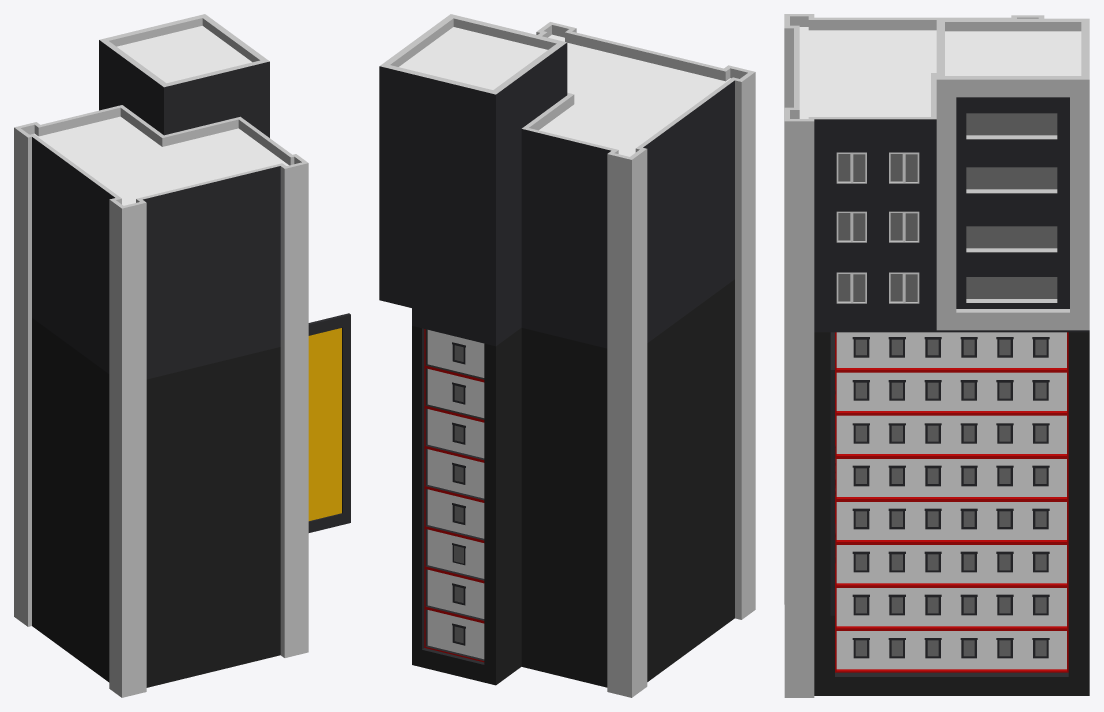
Rendered from Punk4last.fbx.
3 views of the same model, side by side, from view 1: azimuth 30°, elevation 25°; view 2: azimuth 150°, elevation 25°; view 3: azimuth 270°, elevation 25° (orthographic). The views are drawn at different scales.
Visible parts, largest first — view 1: Group5, Group3, Group2, Group7, Group6, Group4; view 2: Group5, Group3, Group2, Group7, Group6; view 3: Group5, Group3, Group2, Group7, Group6, Group4.
Part boxes in pixels (bbox=[...]): Group5: bbox=[14, 381, 308, 697]; Group3: bbox=[14, 14, 308, 274]; Group2: bbox=[14, 194, 308, 389]; Group7: bbox=[14, 345, 308, 462]; Group6: bbox=[14, 308, 308, 425]; Group4: bbox=[308, 313, 350, 532]; Group5: bbox=[412, 351, 755, 697]; Group3: bbox=[379, 14, 755, 232]; Group2: bbox=[379, 145, 755, 358]; Group7: bbox=[412, 311, 755, 439]; Group6: bbox=[412, 271, 755, 398]; Group5: bbox=[784, 328, 1089, 697]; Group3: bbox=[784, 14, 1089, 214]; Group2: bbox=[784, 106, 1089, 334]; Group7: bbox=[784, 284, 1089, 420]; Group6: bbox=[784, 241, 1089, 377]; Group4: bbox=[830, 332, 835, 615].
Size of the model in its own units: 2166 by 4474 by 1953.
